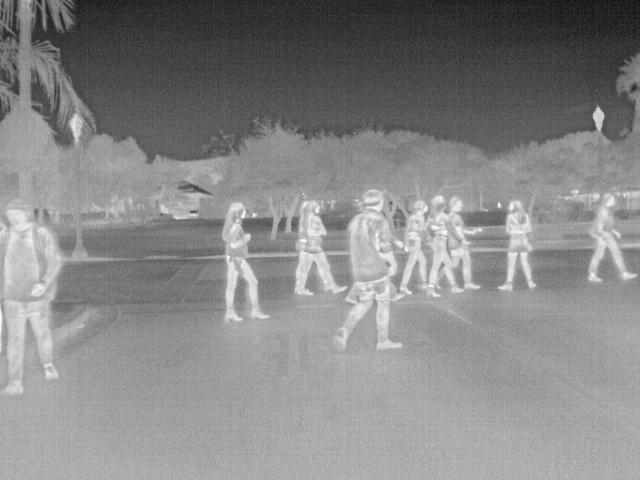person: (1, 199, 68, 398), (333, 188, 403, 354), (220, 200, 271, 324), (296, 197, 348, 294), (422, 194, 467, 294), (587, 192, 637, 281), (496, 198, 539, 292), (442, 193, 481, 290), (397, 196, 431, 295)
